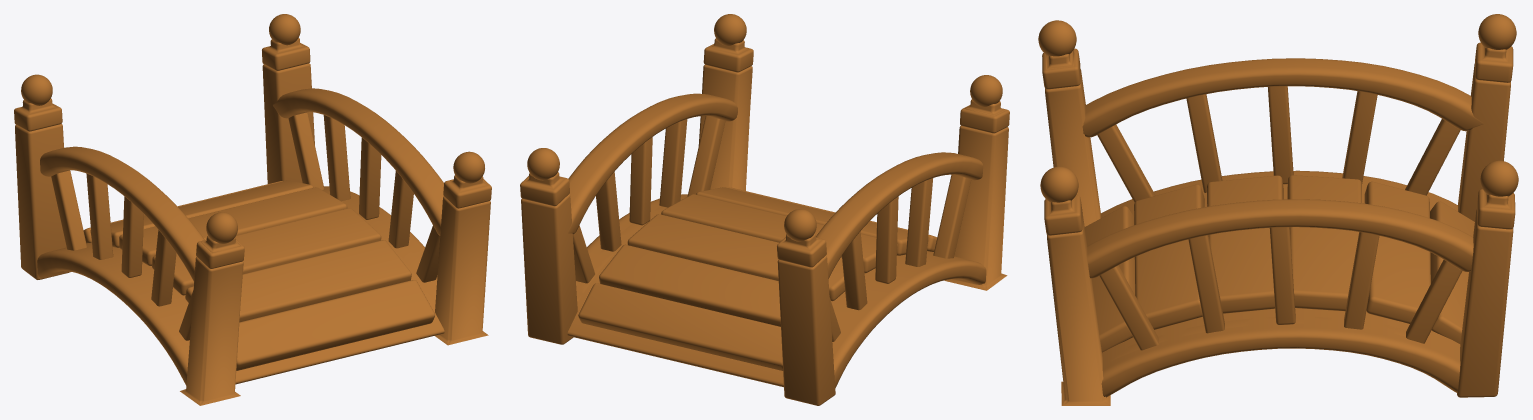
The model's file is bridge.fbx.
3 renders of one model, left to right at view 1: azimuth 30°, elevation 25°; view 2: azimuth 150°, elevation 25°; view 3: azimuth 270°, elevation 25°, orthographic. The views are drawn at different scales.
Parts seen in each view (by area): view 1: Cylinder.001, Cube.002, Cube, Cylinder.004, Cylinder.003, Cube.003, Cube.004, Cube.001, Sphere, Sphere.001; view 2: Cylinder.001, Cube.002, Cube.003, Cylinder.004, Cylinder.003, Cube, Cube.001, Cube.004, Sphere.001, Sphere; view 3: Cylinder.001, Cylinder.004, Cube.002, Cylinder.003, Cube, Cube.003, Cube.004, Cube.001, Sphere, Sphere.001.
Part boxes in pixels (<box>): Cylinder.001: <box>83,180,435,370</box>; Cube.002: <box>51,112,440,340</box>; Cube: <box>180,196,490,405</box>; Cylinder.004: <box>40,88,443,281</box>; Cylinder.003: <box>37,186,444,385</box>; Cube.003: <box>15,63,314,279</box>; Cube.004: <box>14,38,310,131</box>; Cube.001: <box>196,175,491,268</box>; Sphere: <box>206,151,484,243</box>; Sphere.001: <box>21,14,300,105</box>; Cylinder.001: <box>578,187,937,370</box>; Cube.002: <box>573,116,971,341</box>; Cube.003: <box>521,194,835,405</box>; Cylinder.004: <box>568,93,983,278</box>; Cylinder.003: <box>567,194,986,387</box>; Cube: <box>698,64,1008,290</box>; Cube.001: <box>703,38,1009,133</box>; Cube.004: <box>520,172,826,267</box>; Sphere.001: <box>527,148,816,241</box>; Sphere: <box>714,14,1002,106</box>; Cylinder.001: <box>1084,175,1474,352</box>; Cylinder.004: <box>1082,58,1483,278</box>; Cube.002: <box>1097,86,1462,350</box>; Cylinder.003: <box>1100,170,1460,397</box>; Cube: <box>1045,69,1110,405</box>; Cube.003: <box>1457,63,1513,397</box>; Cube.004: <box>1475,42,1515,229</box>; Cube.001: <box>1042,48,1082,235</box>; Sphere: <box>1038,20,1078,202</box>; Sphere.001: <box>1478,14,1518,196</box>.
Size of the model in its own units: 395 by 251 by 472.
